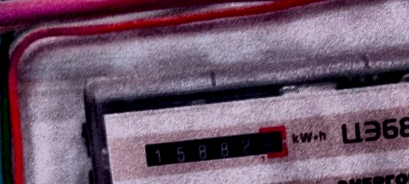1: (150, 143, 161, 162)
2: (237, 134, 250, 153)
5: (172, 142, 184, 160)
7: (260, 139, 272, 151)
8: (193, 140, 206, 158), (216, 137, 228, 156)
screen: (134, 120, 292, 173)
